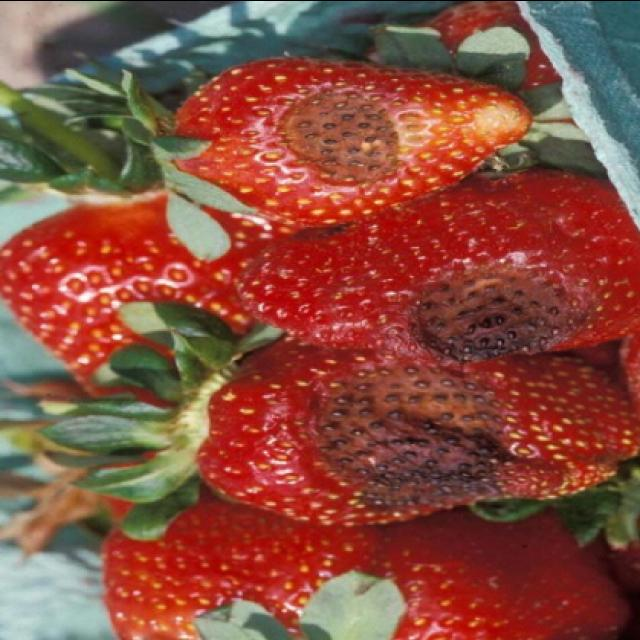Anthracnose Fruit Rot: (299, 357, 521, 525), (407, 248, 604, 367), (271, 76, 411, 184)
